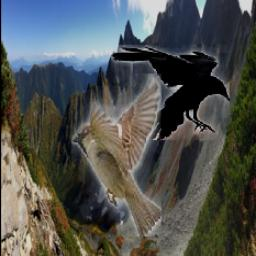Crow: (111, 46, 230, 141)
Sparrow: (71, 73, 162, 236)
